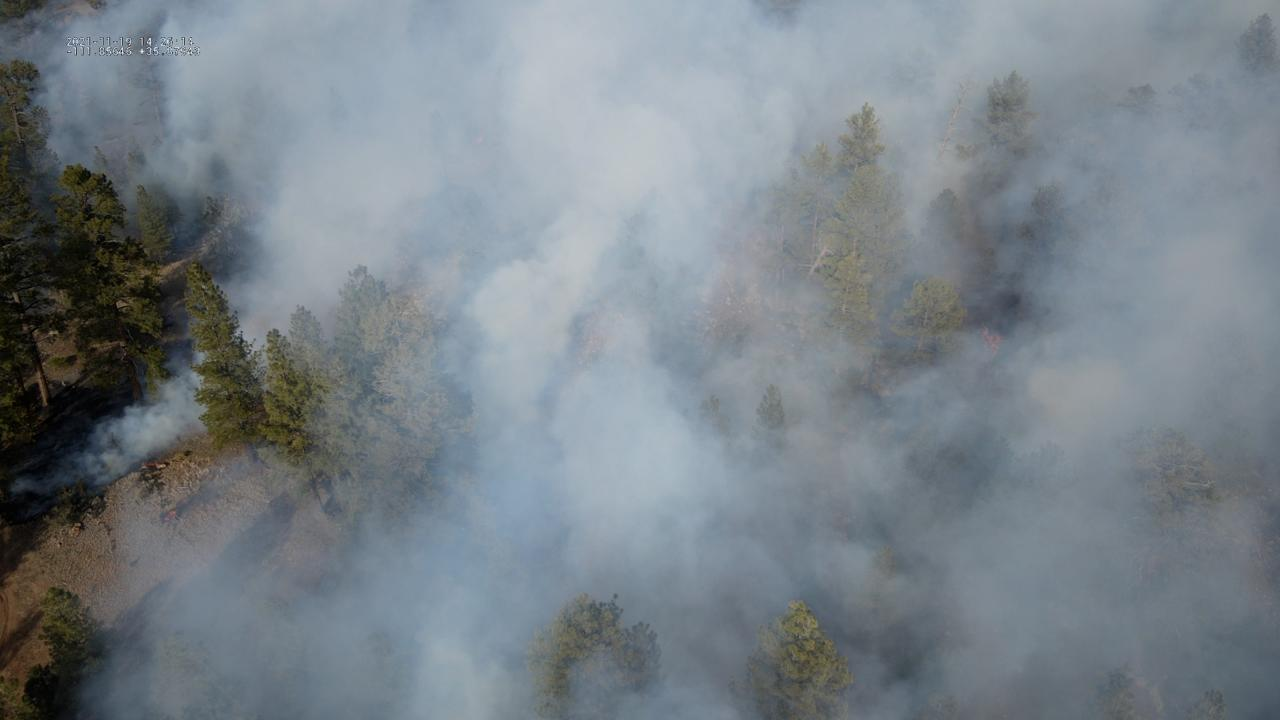fire: (977, 322, 1002, 359), (163, 511, 176, 521), (143, 461, 156, 466)
smoke: (0, 0, 1280, 720)
